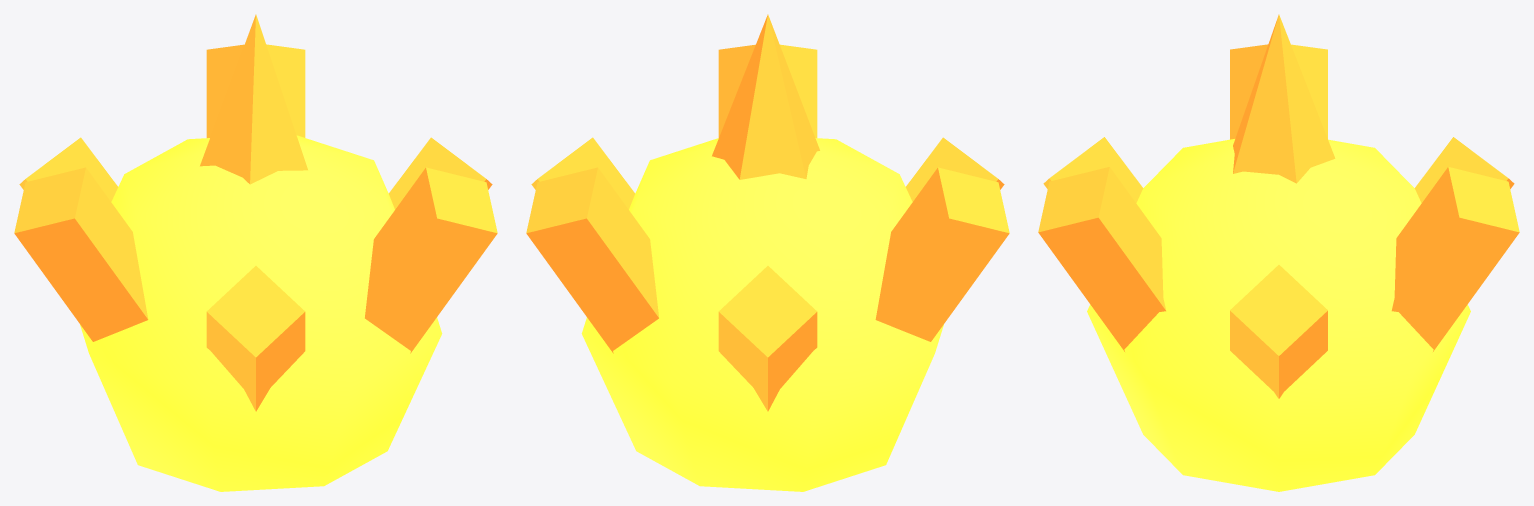
File: fireball.glb
The picture shows the model from 3 angles, left to right: view 1: azimuth 30°, elevation 25°; view 2: azimuth 150°, elevation 25°; view 3: azimuth 270°, elevation 25°; orthographic projection.
Parts seen in each view (by area): view 1: Fire core, Flame.005, Flame.003, Flame tip, Flame.004, Flame.001, Flame, Flame.002; view 2: Fire core, Flame.001, Flame.003, Flame tip, Flame.002, Flame.005, Flame, Flame.004; view 3: Fire core, Flame.001, Flame.005, Flame tip, Flame, Flame.003, Flame.002, Flame.004.
Boxes of the visible parts, bbox=[...] form: Fire core: bbox=[80, 135, 442, 491]; Flame.005: bbox=[365, 167, 497, 353]; Flame.003: bbox=[14, 167, 148, 341]; Flame tip: bbox=[200, 14, 307, 184]; Flame.004: bbox=[206, 266, 305, 411]; Flame.001: bbox=[206, 44, 305, 137]; Flame: bbox=[388, 137, 492, 209]; Flame.002: bbox=[19, 137, 117, 201]; Fire core: bbox=[581, 138, 943, 491]; Flame.001: bbox=[526, 167, 658, 353]; Flame.003: bbox=[875, 167, 1009, 341]; Flame tip: bbox=[712, 14, 819, 179]; Flame.002: bbox=[718, 266, 817, 411]; Flame.005: bbox=[718, 44, 817, 137]; Flame: bbox=[531, 137, 635, 209]; Flame.004: bbox=[906, 137, 1004, 201]; Fire core: bbox=[1087, 139, 1470, 491]; Flame.001: bbox=[1391, 167, 1519, 351]; Flame.005: bbox=[1038, 167, 1166, 351]; Flame tip: bbox=[1233, 14, 1335, 183]; Flame: bbox=[1230, 265, 1327, 398]; Flame.003: bbox=[1230, 44, 1327, 139]; Flame.002: bbox=[1414, 137, 1514, 202]; Flame.004: bbox=[1043, 137, 1143, 202].
Size of the model in its own units: 1.23 by 1.16 by 1.08.
